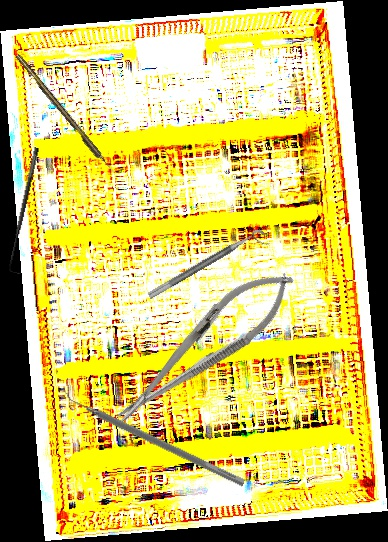Fixation Ring: (146, 226, 271, 310)
Hook Surgical: (14, 52, 117, 177), (3, 146, 50, 275)
Needle Holder: (100, 253, 308, 440)
Spatula Surgical: (58, 386, 250, 487)
